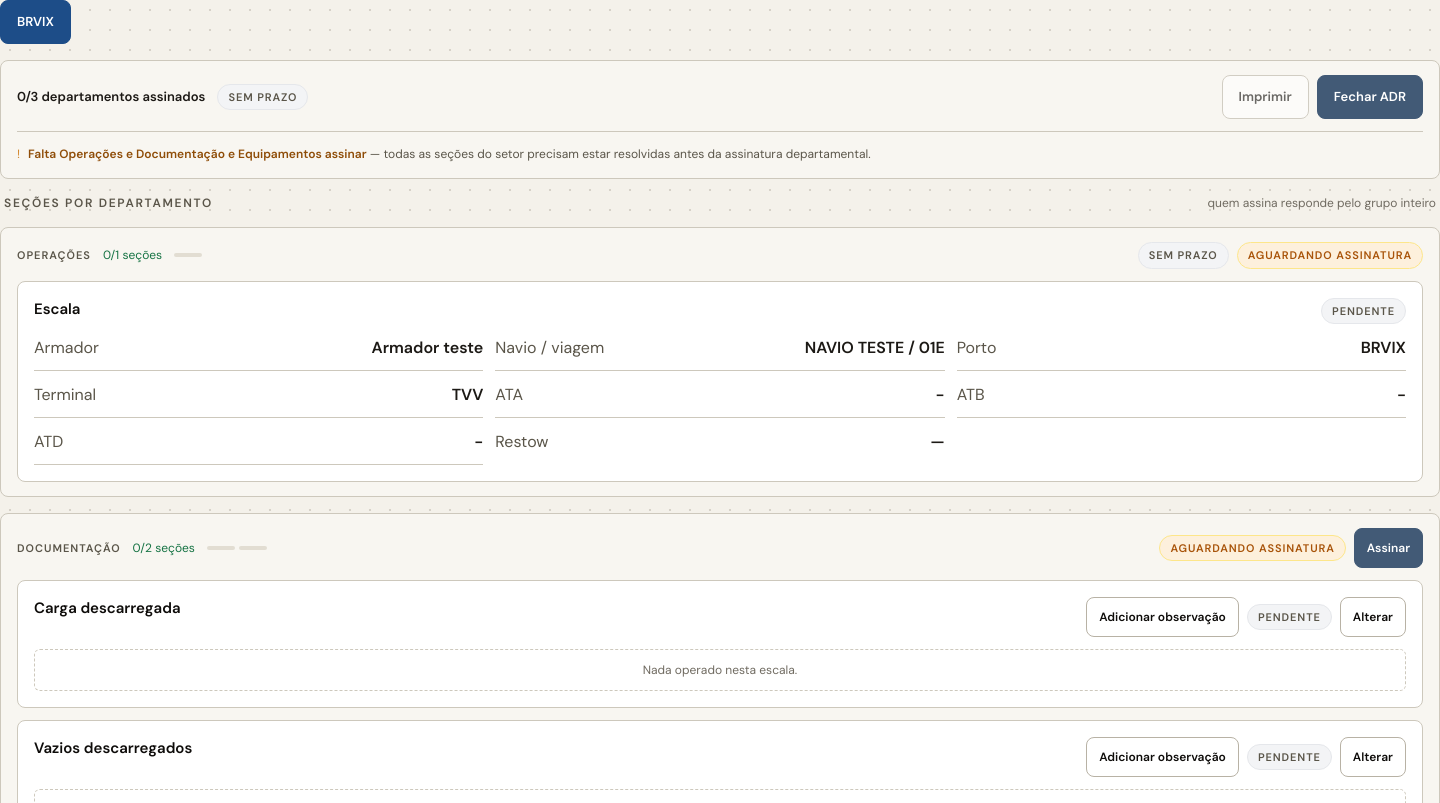
Test: seção vazia continua Pendente com o controle de resolução visível
Expected: the text "Nada operado nesta escala." below "Carga descarregada" is shown, [643,662,797,678]
Expected: the button "Pendente" in the row of "Carga descarregada" is shown, [1247,604,1332,630]
Click the button with aria-label "Alterar resolução de Documentação". click: coordinates (1373, 617)
box: [1340,597,1406,637]
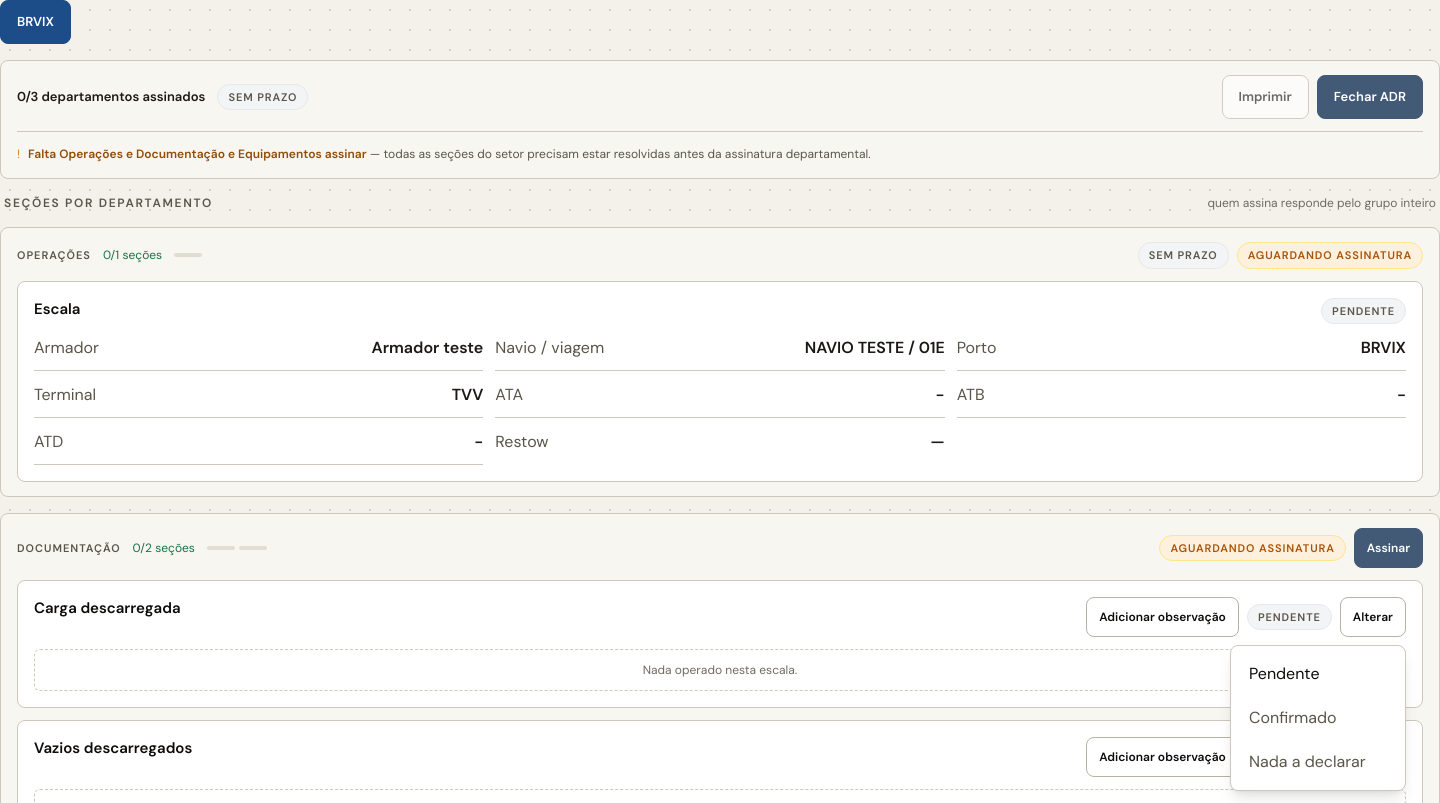
Expected: the button "Confirmado" is shown, [1239,698,1397,738]
Expected: the button "Nada a declarar" is shown, [1239,742,1397,782]
